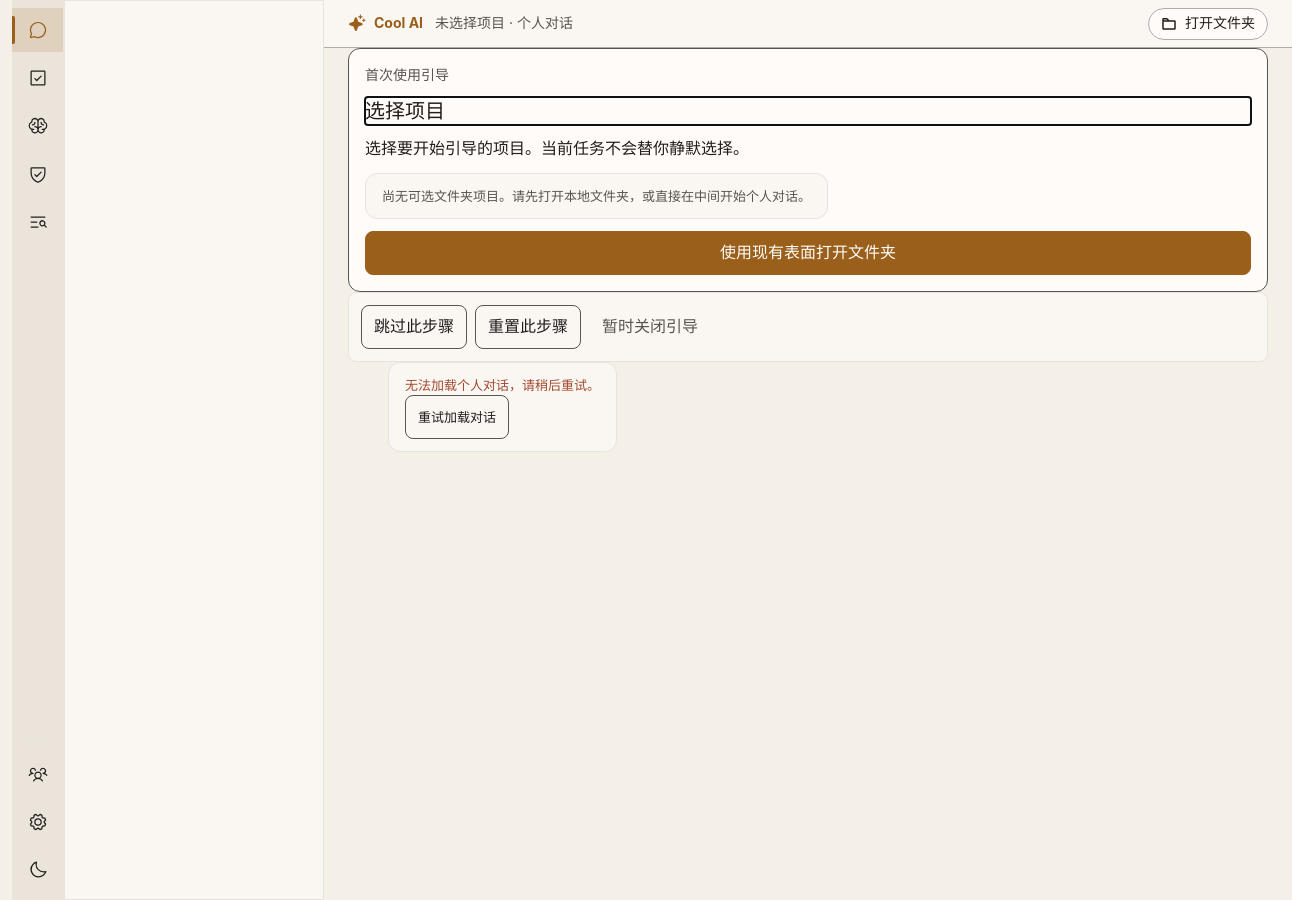
Test: progressive onboarding T-6 explicit project selection › fails closed when GET cannot uniquely reconcile an unknown POST result
Expected: the text "尚无可选文件夹项目。请先打开本地文件夹，或直接在中间开始个人对话。" is shown, [365,172,828,218]
What coordinates should you click on to do the following:
click the button "打开文件夹"
I would click on:
 (1208, 24)
Its box is [1148,8,1268,40].
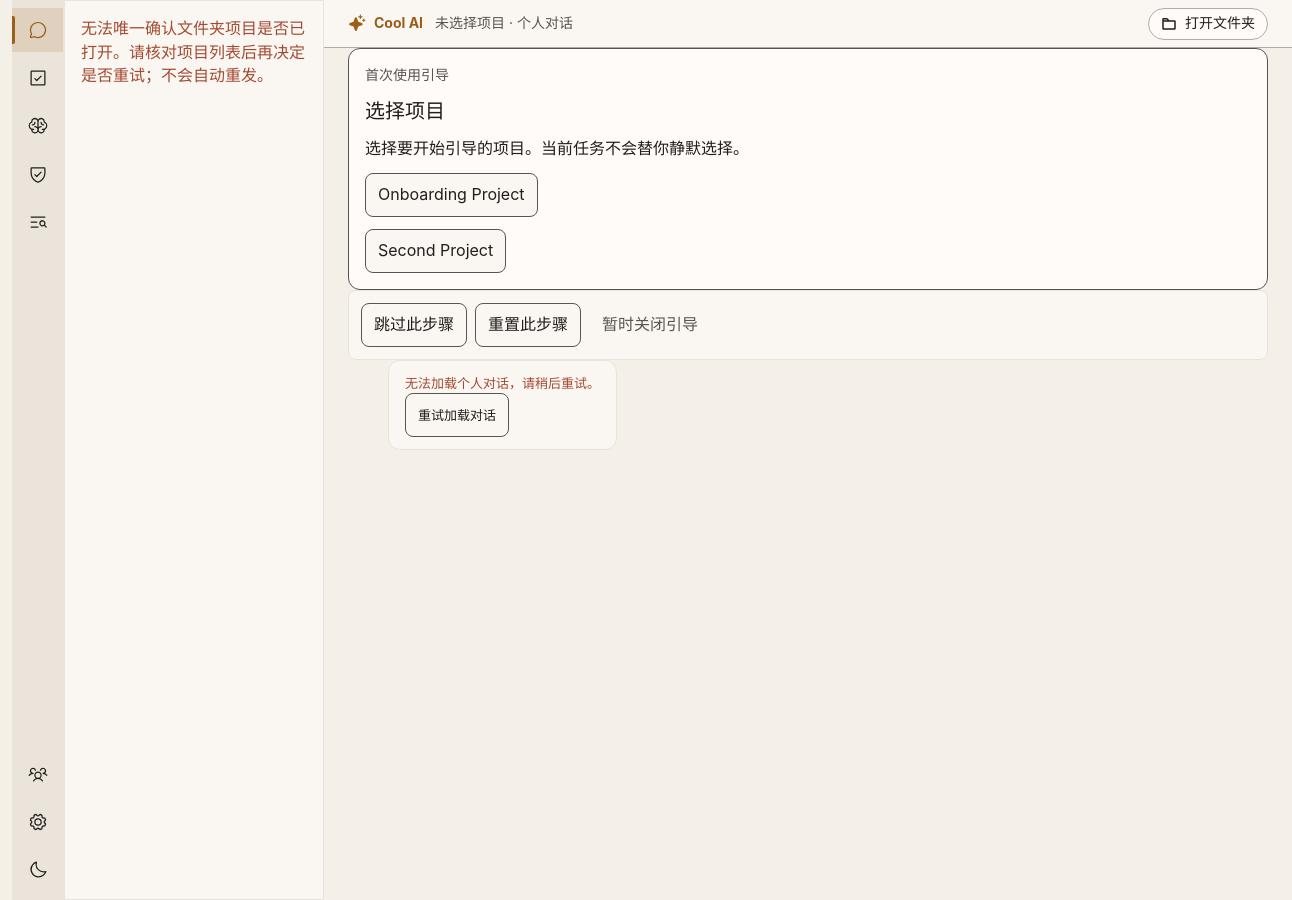
Result: the text "无法唯一确认文件夹项目是否已打开。请核对项目列表后再决定是否重试；不会自动重发。" is shown at [81,17,307,88]
